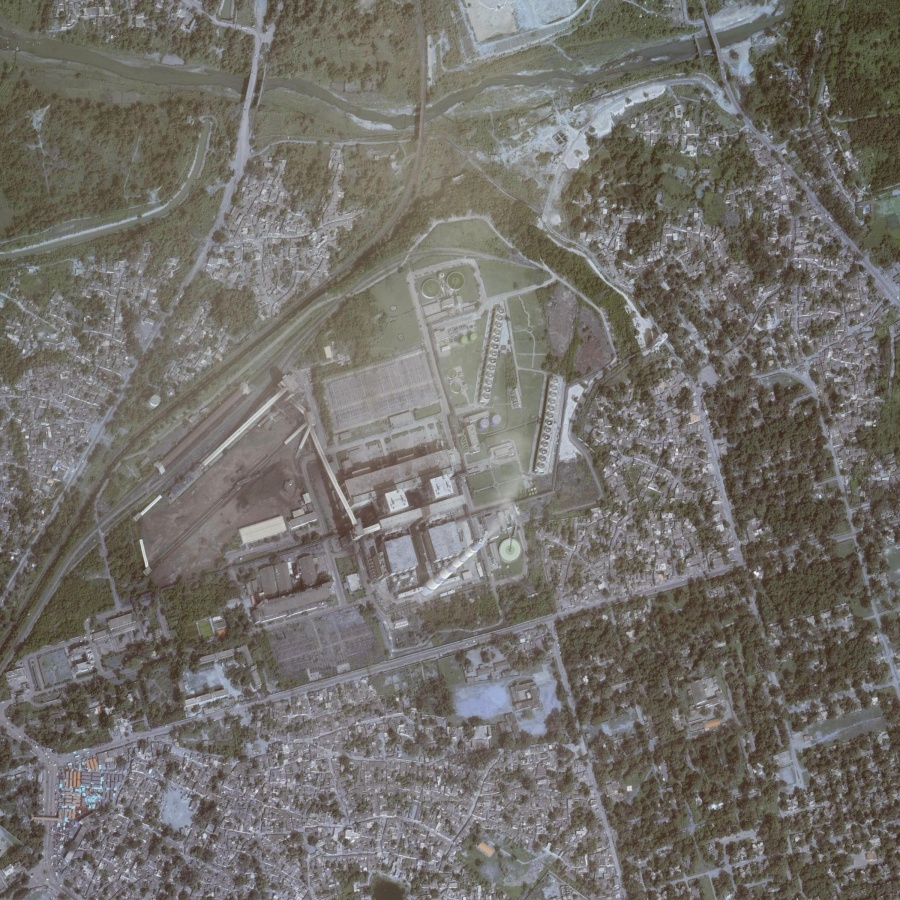PowerPlant: (136, 265, 578, 619)
